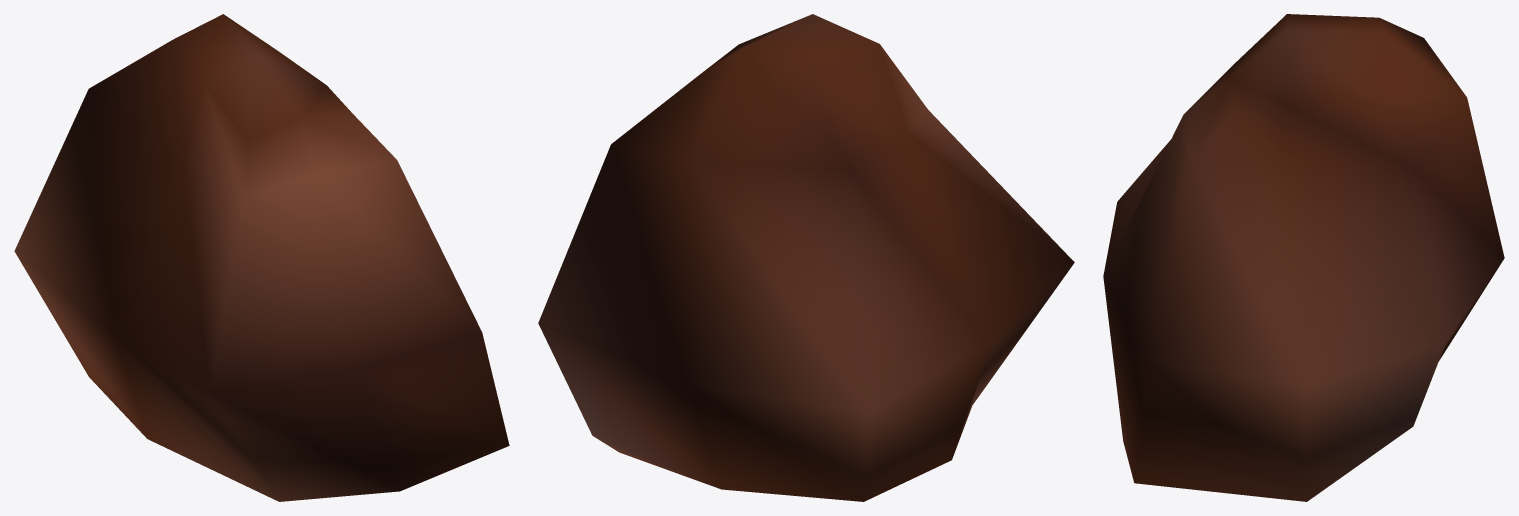
The model's file is Rock.glb.
3 renders of one model, left to right at view 1: azimuth 30°, elevation 25°; view 2: azimuth 150°, elevation 25°; view 3: azimuth 270°, elevation 25°, orthographic. The views are drawn at different scales.
Parts seen in each view (by area): view 1: Cube; view 2: Cube; view 3: Cube.
Part boxes in pixels (x1,y1,x2,y2): Cube: (14, 14, 509, 501); Cube: (538, 14, 1074, 501); Cube: (1103, 14, 1504, 501).
Bounding box in the file's own units: 1.45 × 1.65 × 1.5.
